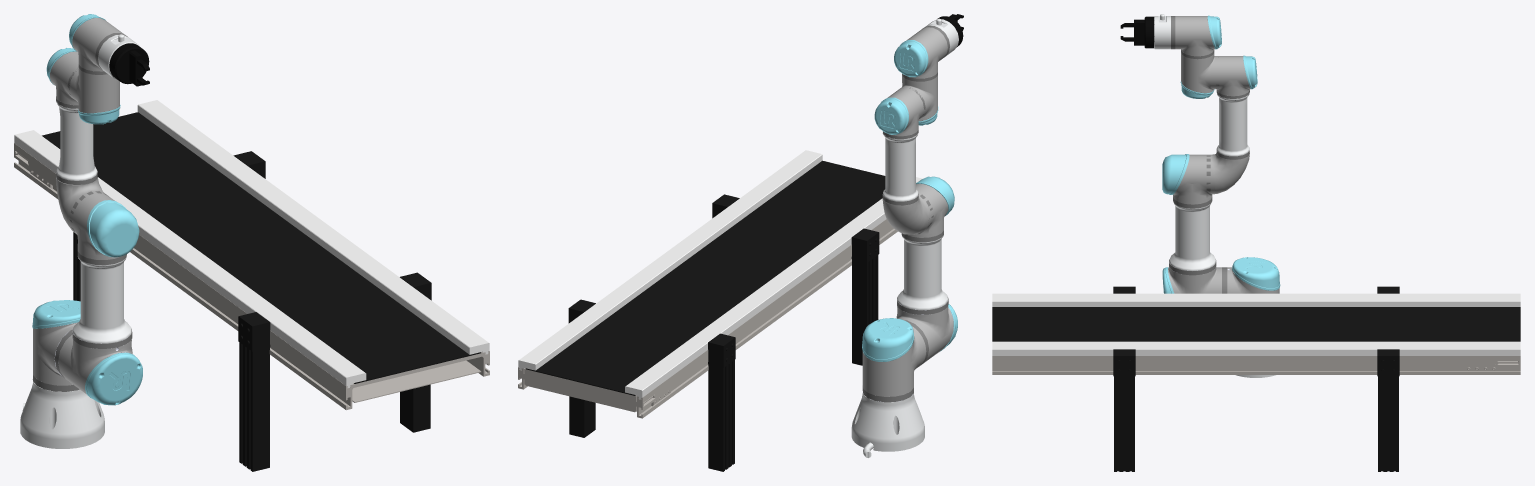
Rendered from UR_Pick_and_Place_Station.glb.
The picture shows the model from 3 angles, left to right: view 1: azimuth 30°, elevation 25°; view 2: azimuth 150°, elevation 25°; view 3: azimuth 270°, elevation 25°; orthographic projection. The views are drawn at different scales.
Parts seen in each view (by area): view 1: color-6[2], URjoint2_Bodies, color-6[3], color-6[4], color-6[5], URjoint3_Bodies, color-7[1], URbase_Bodies, URjoint1_Bodies, URjoint4_Bodies, color-6[1], color-7[2] (+4 smaller); view 2: color-6[2], color-6[3], URjoint2_Bodies, color-6[4], URjoint3_Bodies, URjoint1_Bodies, color-6[5], color-7, URbase_Bodies, color-7[1], color-6, URjoint5_Bodies (+3 smaller); view 3: color-6[2], color-6[5], color-6[3], color-6[4], URjoint2_Bodies, URjoint3_Bodies, color-7[2], color-7[3], URjoint5_Bodies, URjoint1_Bodies, URjoint4_Bodies, color-6 (+2 smaller).
Boxes of the visible parts, left/top/right/bottom form: color-6[2]: left=42, top=112, right=481, bottom=383; URjoint2_Bodies: left=54, top=190, right=142, bottom=405; color-6[3]: left=137, top=100, right=489, bottom=354; color-6[4]: left=14, top=130, right=366, bottom=387; color-6[5]: left=38, top=161, right=489, bottom=410; URjoint3_Bodies: left=46, top=48, right=108, bottom=231; color-7[1]: left=238, top=312, right=270, bottom=471; URbase_Bodies: left=20, top=379, right=104, bottom=448; URjoint1_Bodies: left=32, top=300, right=80, bottom=391; URjoint4_Bodies: left=67, top=67, right=120, bottom=124; color-6[1]: left=352, top=360, right=481, bottom=402; color-7[2]: left=400, top=272, right=431, bottom=432; color-6[2]: left=525, top=160, right=885, bottom=395; color-6[3]: left=518, top=150, right=822, bottom=370; URjoint2_Bodies: left=893, top=176, right=957, bottom=364; color-6[4]: left=625, top=177, right=922, bottom=399; URjoint3_Bodies: left=874, top=86, right=933, bottom=234; URjoint1_Bodies: left=862, top=318, right=926, bottom=402; color-6[5]: left=663, top=219, right=897, bottom=402; color-7: left=708, top=333, right=735, bottom=471; URbase_Bodies: left=851, top=393, right=924, bottom=457; color-7[1]: left=851, top=228, right=879, bottom=365; color-6: left=518, top=367, right=670, bottom=418; URjoint5_Bodies: left=894, top=27, right=947, bottom=81; color-6[2]: left=992, top=307, right=1520, bottom=341; color-6[5]: left=992, top=356, right=1481, bottom=374; color-6[3]: left=992, top=341, right=1520, bottom=355; color-6[4]: left=992, top=293, right=1520, bottom=306; URjoint2_Bodies: left=1162, top=154, right=1227, bottom=293; URjoint3_Bodies: left=1206, top=55, right=1257, bottom=193; color-7[2]: left=1113, top=349, right=1135, bottom=471; color-7[3]: left=1377, top=349, right=1399, bottom=471; URjoint5_Bodies: left=1175, top=15, right=1221, bottom=59; URjoint1_Bodies: left=1227, top=257, right=1280, bottom=293; URjoint4_Bodies: left=1180, top=52, right=1219, bottom=98; color-6: left=1465, top=356, right=1520, bottom=374.
Bounding box in the file's own units: 0.5517 × 0.7308 × 1.
